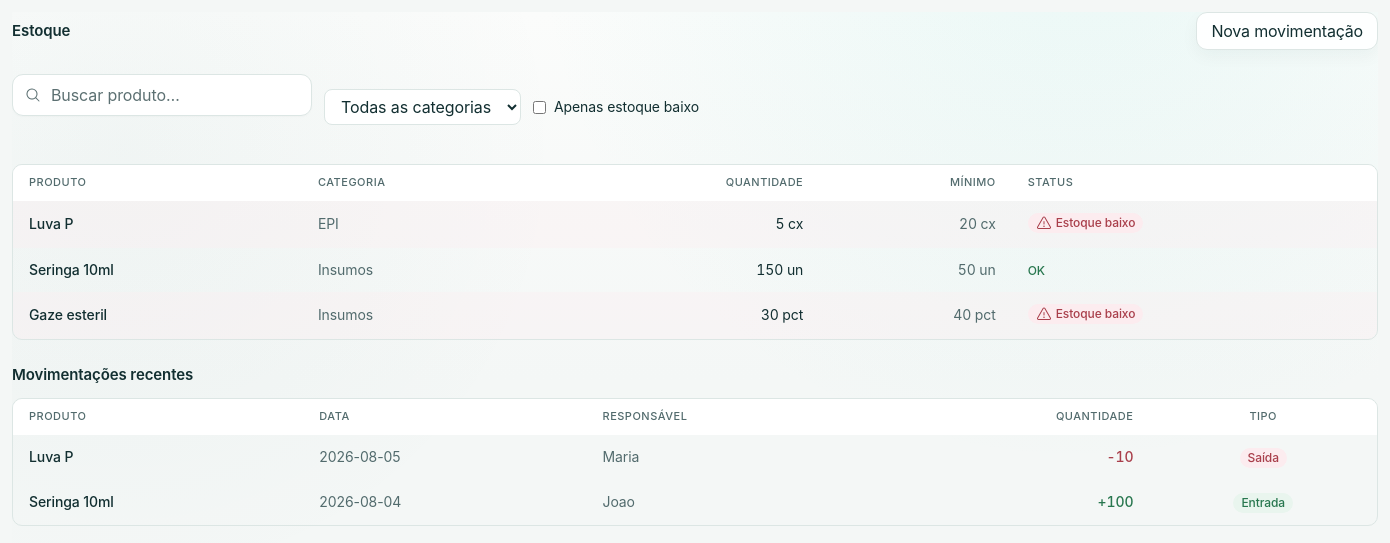
it: FinanceiroEstoque › filtra por categoria
Select "EPI" in the dropdown named "Filtrar por categoria": (422, 107) [324,89,521,125]
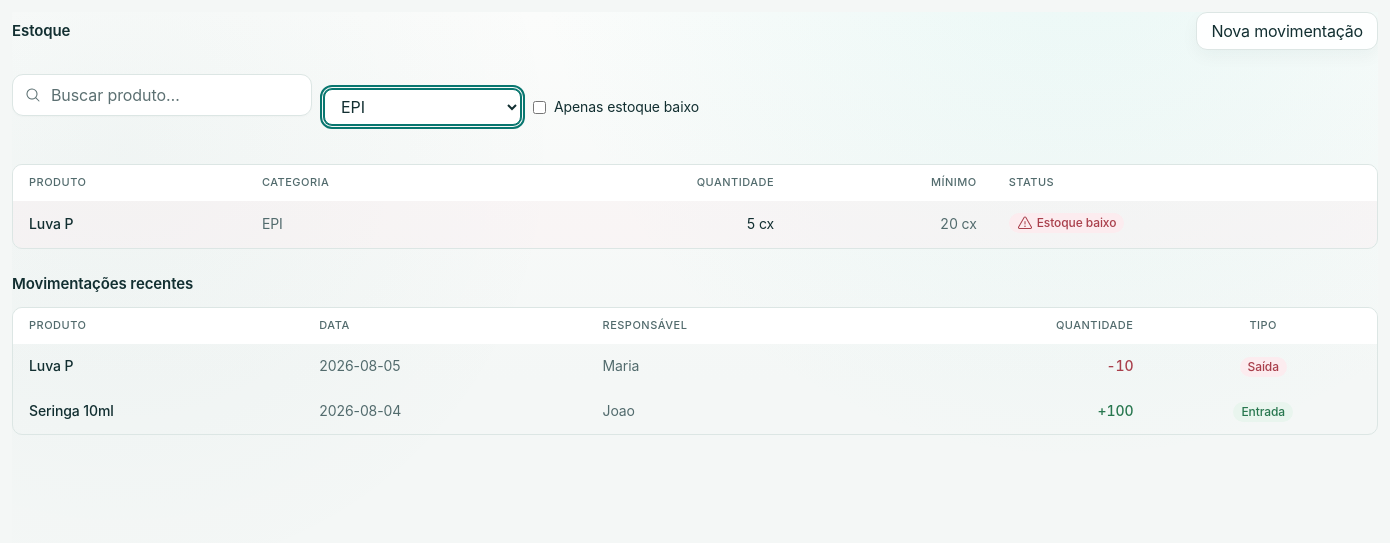
Expected: the text "Luva P" next to "EPI" is shown, [29,215,73,232]
Result: the text "Gaze esteril" is gone
